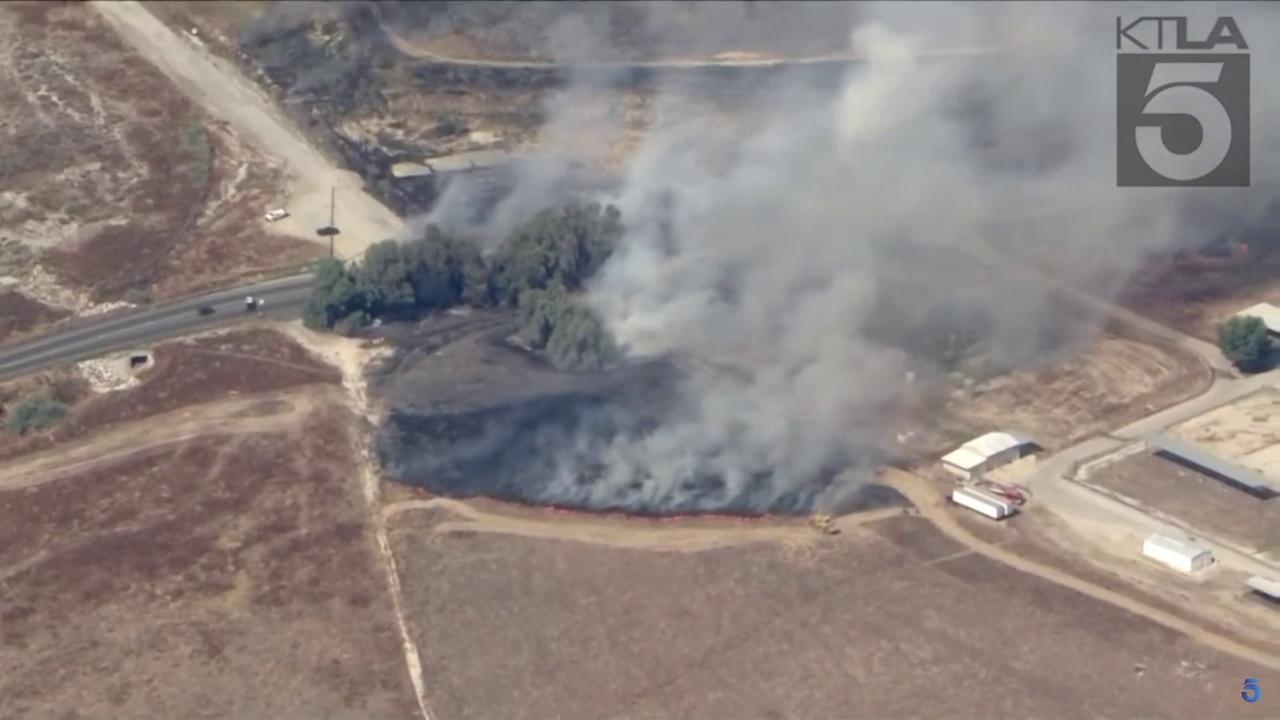fire: (628, 514, 685, 523), (701, 515, 753, 521), (546, 507, 569, 514), (766, 513, 771, 518)
smoke: (236, 3, 1280, 510)
